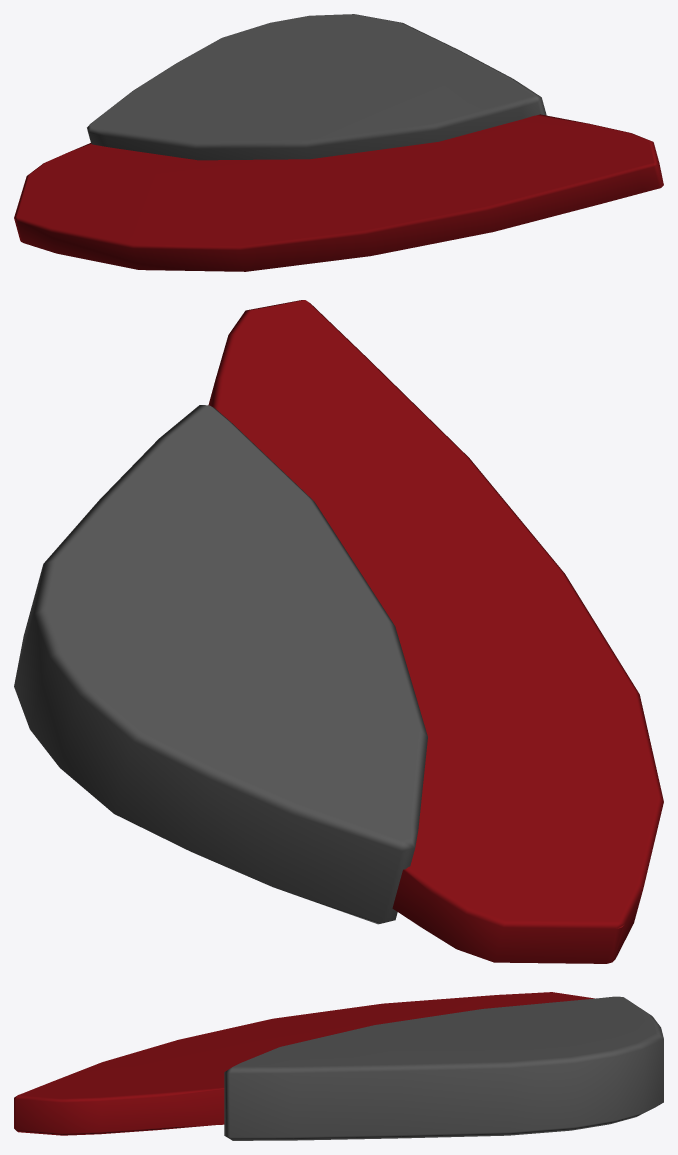
Rendered from Ship_enemy_07_Wing_R.fbx.
3 renders of one model, top to bottom at view 1: azimuth 30°, elevation 25°; view 2: azimuth 150°, elevation 25°; view 3: azimuth 270°, elevation 25°, orthographic. The views are drawn at different scales.
Parts seen in each view (by area): view 1: Ship_enemy_07_Wing_R; view 2: Ship_enemy_07_Wing_R; view 3: Ship_enemy_07_Wing_R.
Part boxes in pixels (left/top/right/bottom): Ship_enemy_07_Wing_R: left=14, top=14, right=663, bottom=271; Ship_enemy_07_Wing_R: left=14, top=300, right=663, bottom=963; Ship_enemy_07_Wing_R: left=14, top=992, right=663, bottom=1140.
Bounding box in the file's own units: 179 × 59.06 × 190.
